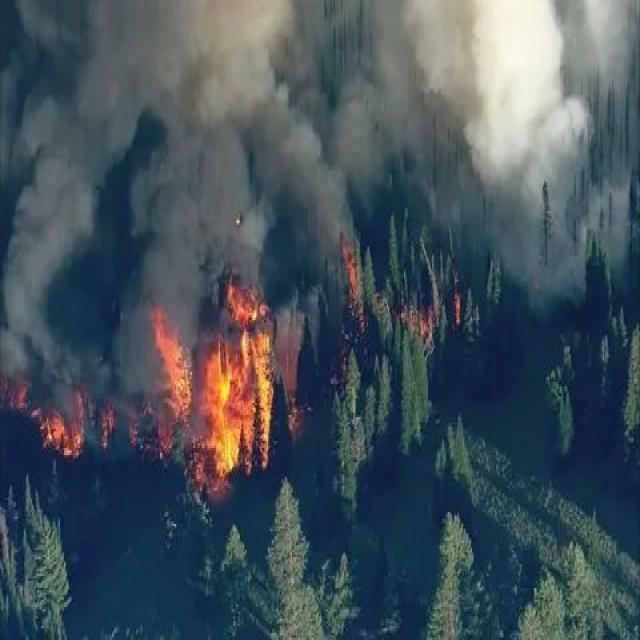Fire: (122, 271, 318, 511)
Smoke: (19, 0, 640, 269)
